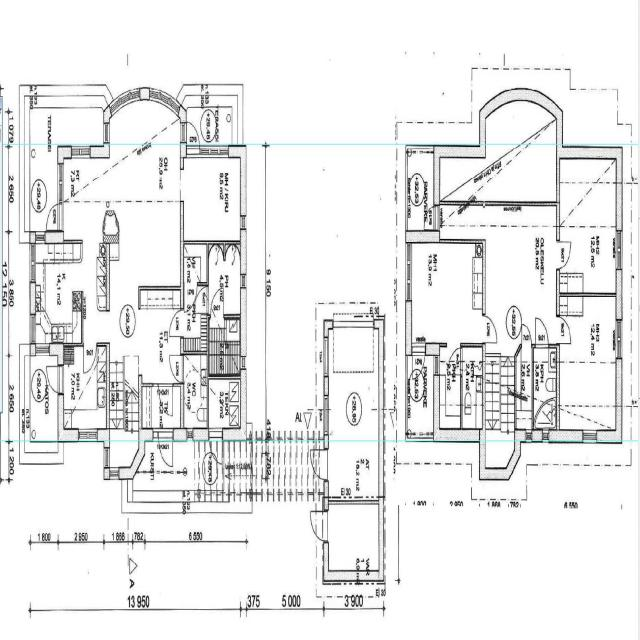door: (159, 428, 173, 470), (209, 428, 223, 468), (310, 450, 328, 480), (310, 511, 328, 541), (45, 366, 64, 393), (412, 343, 425, 382), (158, 383, 173, 416), (187, 119, 200, 157), (45, 204, 63, 230), (167, 355, 184, 382), (482, 316, 499, 343), (210, 287, 223, 320), (168, 310, 184, 336), (422, 206, 440, 229), (447, 348, 462, 375), (185, 282, 198, 313), (194, 286, 208, 314), (557, 317, 572, 343), (557, 242, 572, 268), (535, 318, 548, 348), (84, 343, 96, 373), (522, 323, 531, 348)
